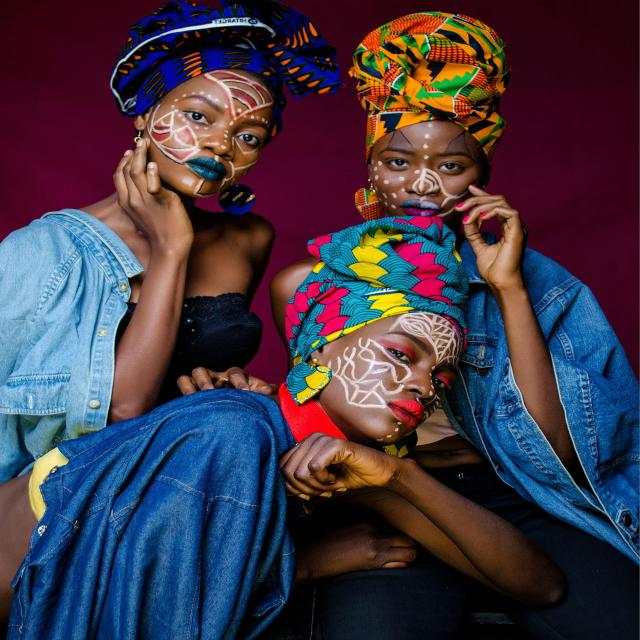sem_oculos: (341, 328, 466, 382), (172, 90, 264, 144), (371, 141, 491, 174)
